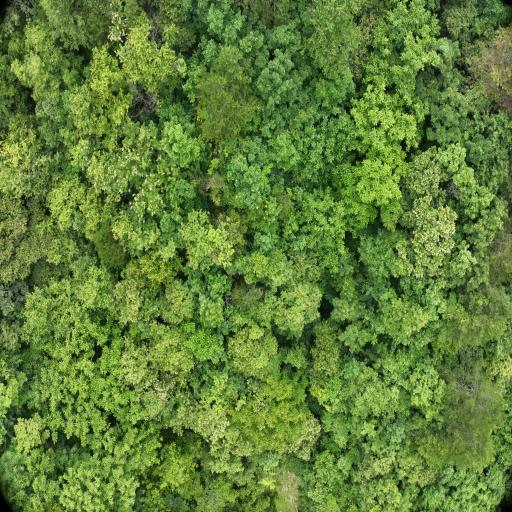dead-tree: (132, 88, 154, 114), (151, 31, 159, 41)
